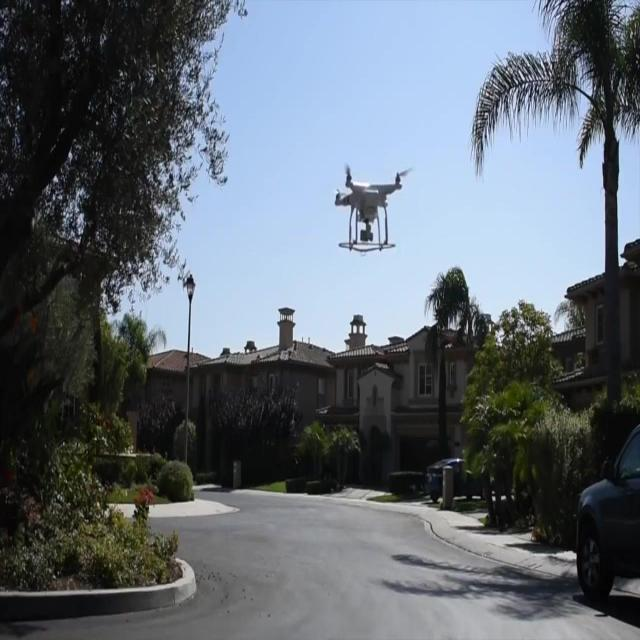drone: (332, 162, 407, 254)
